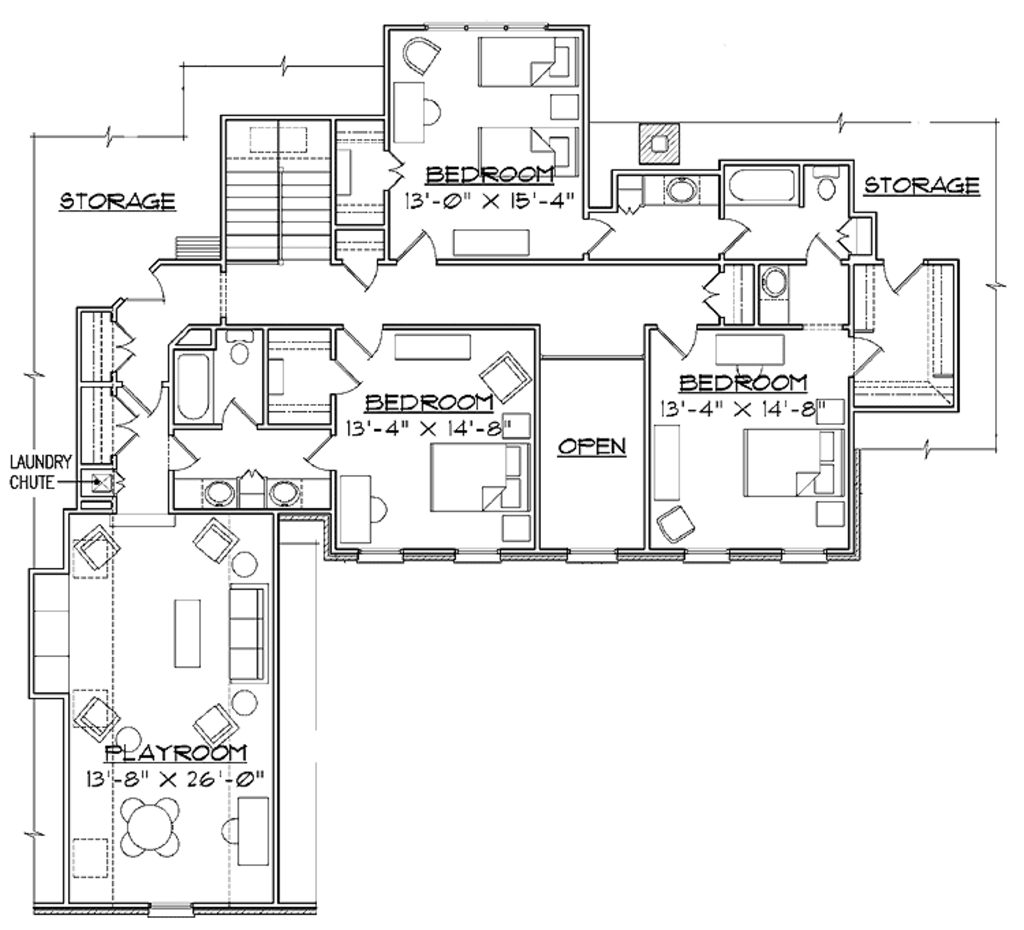bed: (737, 424, 846, 504), (427, 440, 536, 515), (471, 33, 581, 91), (478, 124, 582, 185)
door: (110, 398, 146, 452), (879, 259, 927, 298), (847, 332, 885, 380), (655, 318, 701, 357), (124, 268, 169, 307), (220, 393, 259, 437), (340, 321, 384, 359), (584, 213, 621, 257), (696, 264, 724, 322), (803, 229, 846, 266), (338, 259, 381, 295), (718, 215, 754, 257), (121, 381, 163, 416), (394, 231, 437, 265), (113, 316, 137, 376), (168, 432, 202, 474), (330, 355, 363, 396), (305, 433, 337, 473)
large_sink: (219, 326, 260, 371), (807, 163, 844, 205)
large_sofa: (226, 582, 273, 684)
round_table: (113, 796, 190, 872)
small_sink: (638, 172, 723, 211)
small_sofa: (187, 703, 242, 753), (72, 521, 122, 570), (189, 515, 237, 563), (73, 698, 122, 744), (650, 503, 696, 547)
stairs: (222, 111, 331, 274)
tub: (713, 159, 804, 209), (170, 347, 216, 427)
window: (779, 546, 829, 569), (447, 549, 503, 567), (356, 546, 403, 566), (148, 902, 195, 921), (564, 549, 619, 564), (681, 551, 731, 564)
